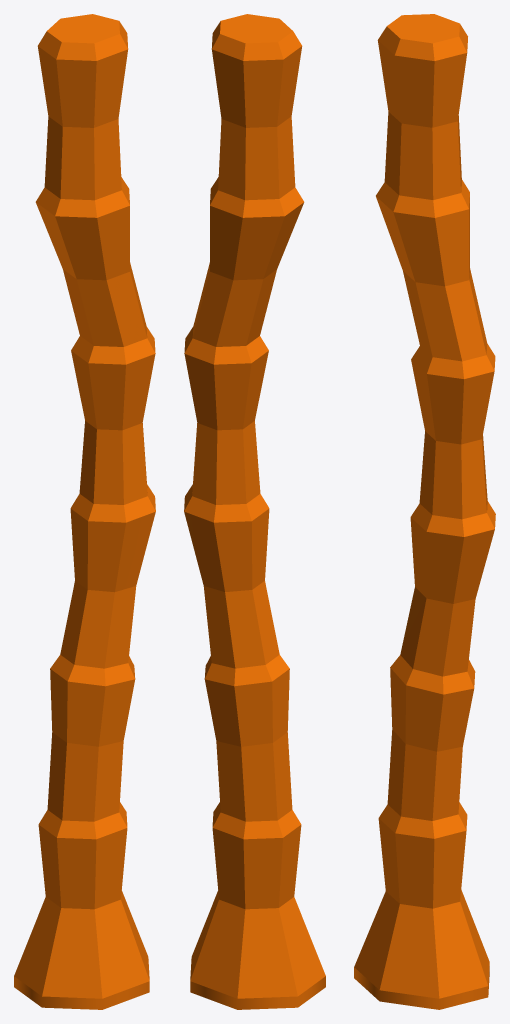
The model's file is palm_trunk_02.fbx.
3 views of the same model, side by side, from view 1: azimuth 30°, elevation 25°; view 2: azimuth 150°, elevation 25°; view 3: azimuth 330°, elevation 25° (orthographic).
Parts seen in each view (by area): view 1: Cylinder001; view 2: Cylinder001; view 3: Cylinder001.
Part boxes in pixels (x1=…): Cylinder001: x1=14, y1=14, x2=155, y2=1009; Cylinder001: x1=184, y1=14, x2=325, y2=1009; Cylinder001: x1=354, y1=14, x2=495, y2=1009.
Bounding box in the file's own units: 24.61 × 177 × 21.09.
